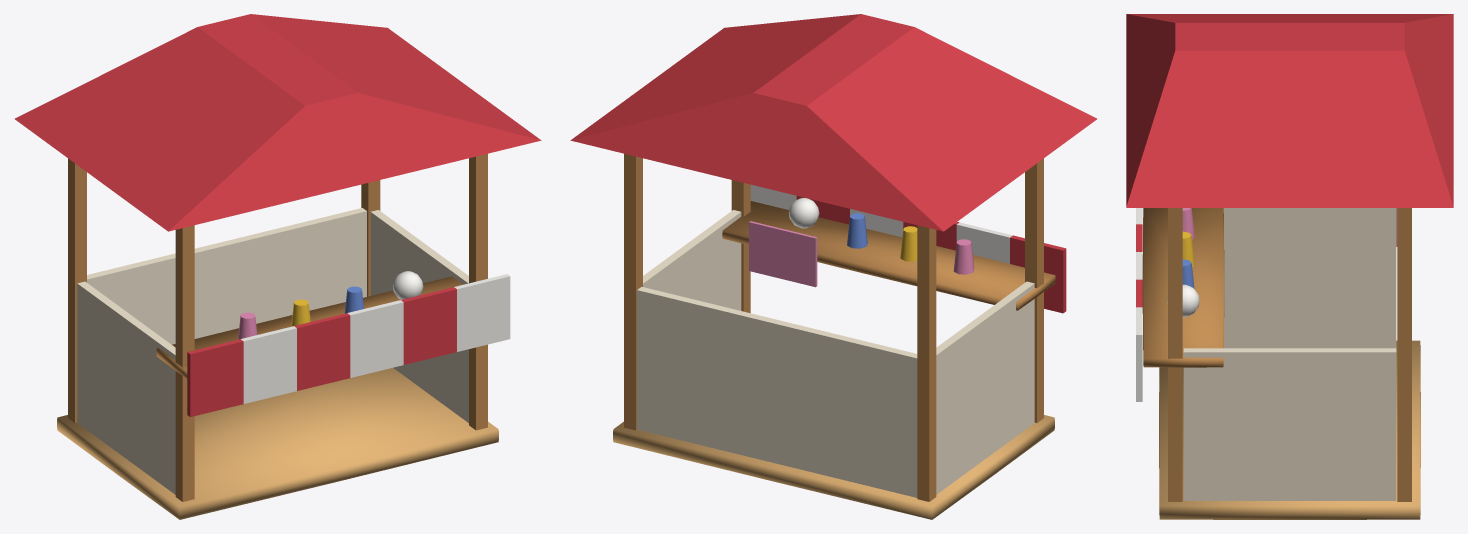
The model's file is snack_stall.glb.
3 views of the same model, side by side, from view 1: azimuth 30°, elevation 25°; view 2: azimuth 150°, elevation 25°; view 3: azimuth 270°, elevation 25° (orthographic). The views are drawn at different scales.
Visible parts, largest first — view 1: root; view 2: root; view 3: root.
Boxes of the visible parts, <box> form: root: <box>15,14,541,519</box>; root: <box>570,14,1096,519</box>; root: <box>1126,14,1453,519</box>.
Bounding box in the file's own units: 2.8 × 2.7 × 2.
